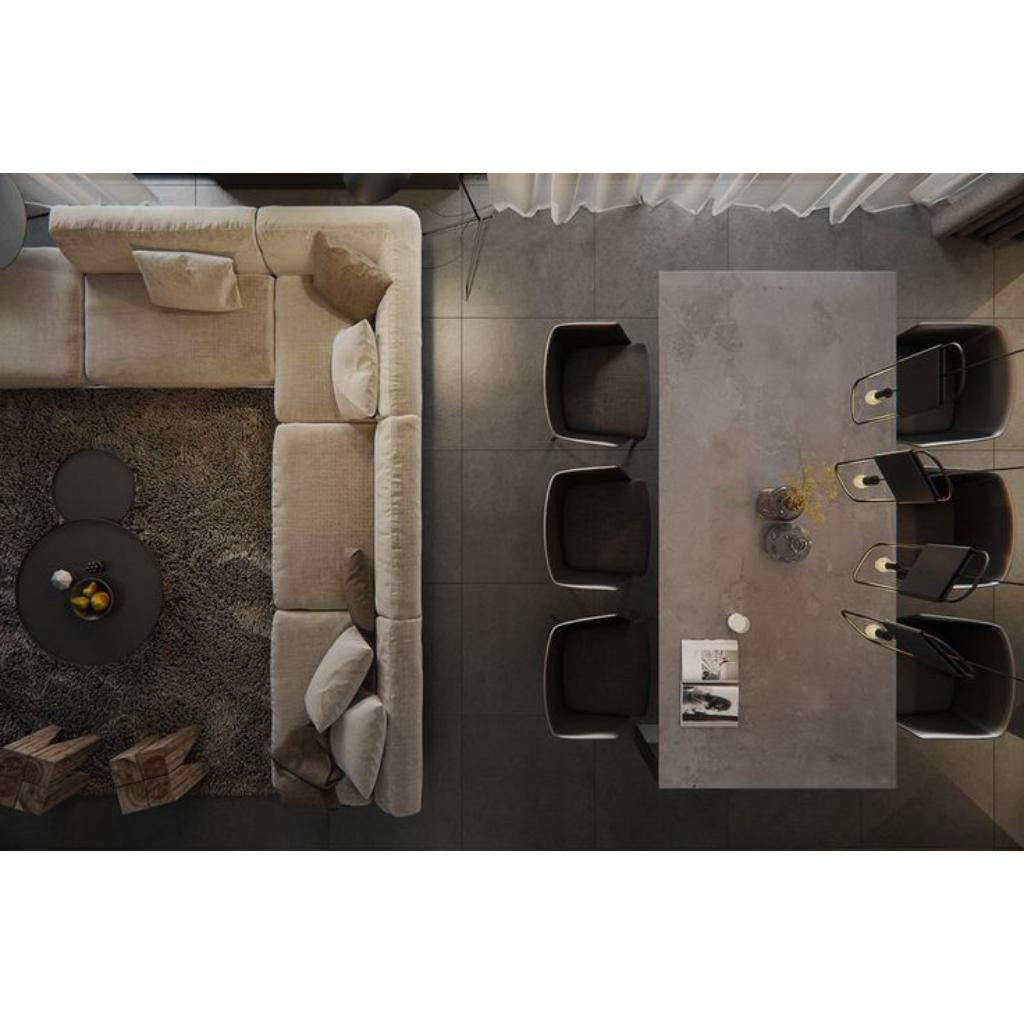chair: (900, 612, 1018, 746), (546, 319, 654, 461), (543, 610, 651, 744), (900, 466, 1016, 590), (900, 320, 1012, 446), (546, 467, 650, 593), (6, 726, 94, 812)
coffee table: (18, 443, 168, 673)
dining table: (661, 270, 895, 790)
floor lamp: (438, 209, 492, 267)
rug: (0, 248, 404, 820)
sofa: (272, 208, 424, 814), (4, 206, 268, 384)
stool: (108, 727, 206, 811)
window: (482, 176, 1022, 192), (0, 174, 208, 192)
